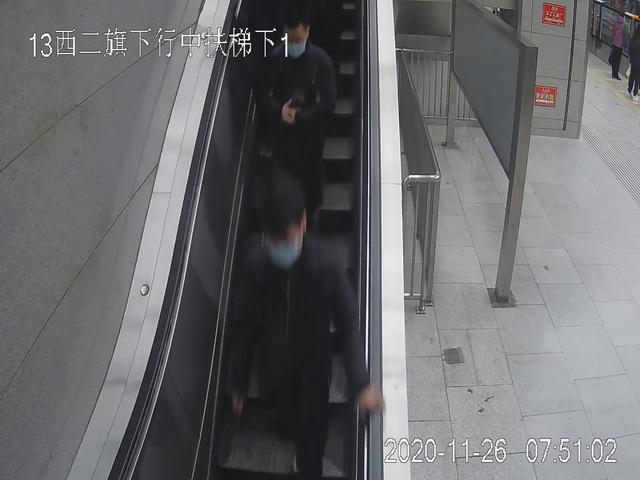person: (232, 180, 374, 480), (262, 16, 332, 225), (608, 9, 627, 80)
